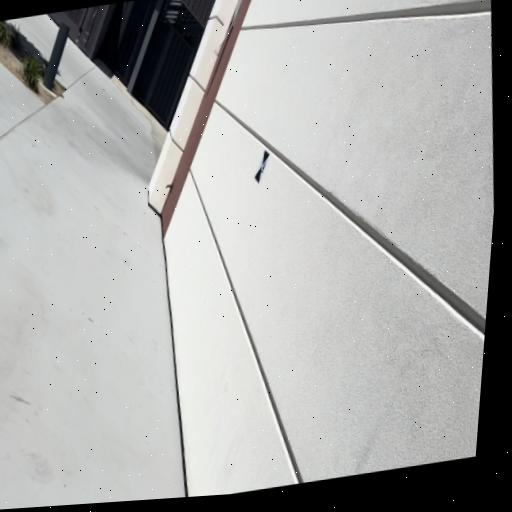target4: (254, 149, 271, 185)
